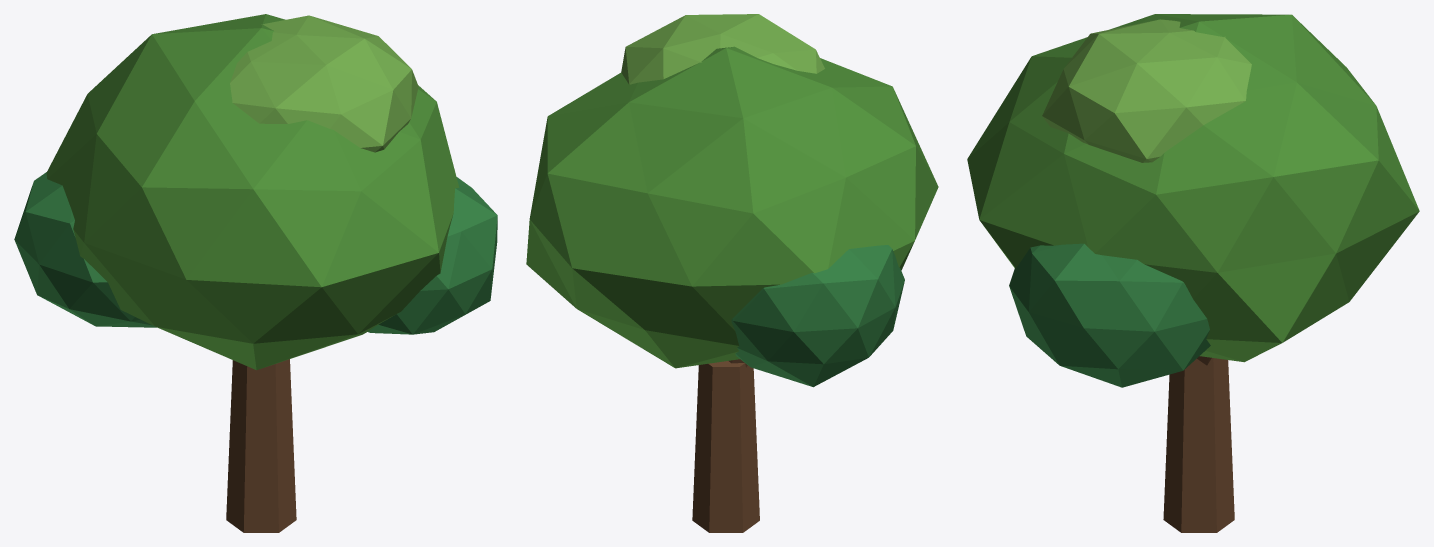
Rendered from tree_oak.glb.
The picture shows the model from 3 angles, left to right: view 1: azimuth 30°, elevation 25°; view 2: azimuth 150°, elevation 25°; view 3: azimuth 270°, elevation 25°; orthographic projection. The views are drawn at different scales.
Parts seen in each view (by area): view 1: tree_oak; view 2: tree_oak; view 3: tree_oak.
Boxes of the visible parts, x1,y1,x2,y2 form: tree_oak: (14, 14, 497, 532); tree_oak: (526, 14, 938, 532); tree_oak: (967, 14, 1419, 532).
Bounding box in the file's own units: 3.79 × 4.62 × 3.81.
